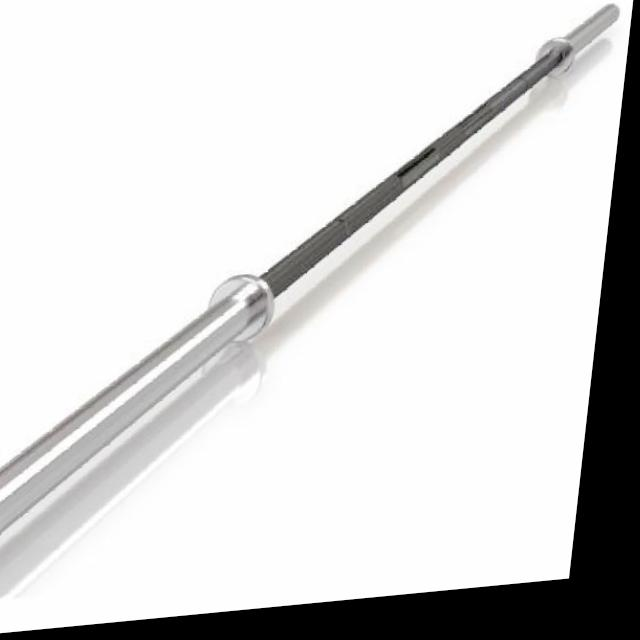barbell: (1, 274, 293, 563)
